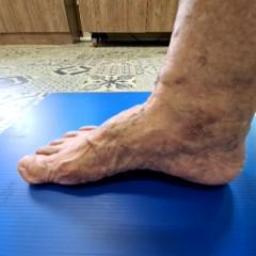Medial View -Right Foot-: (7, 63, 255, 209)
